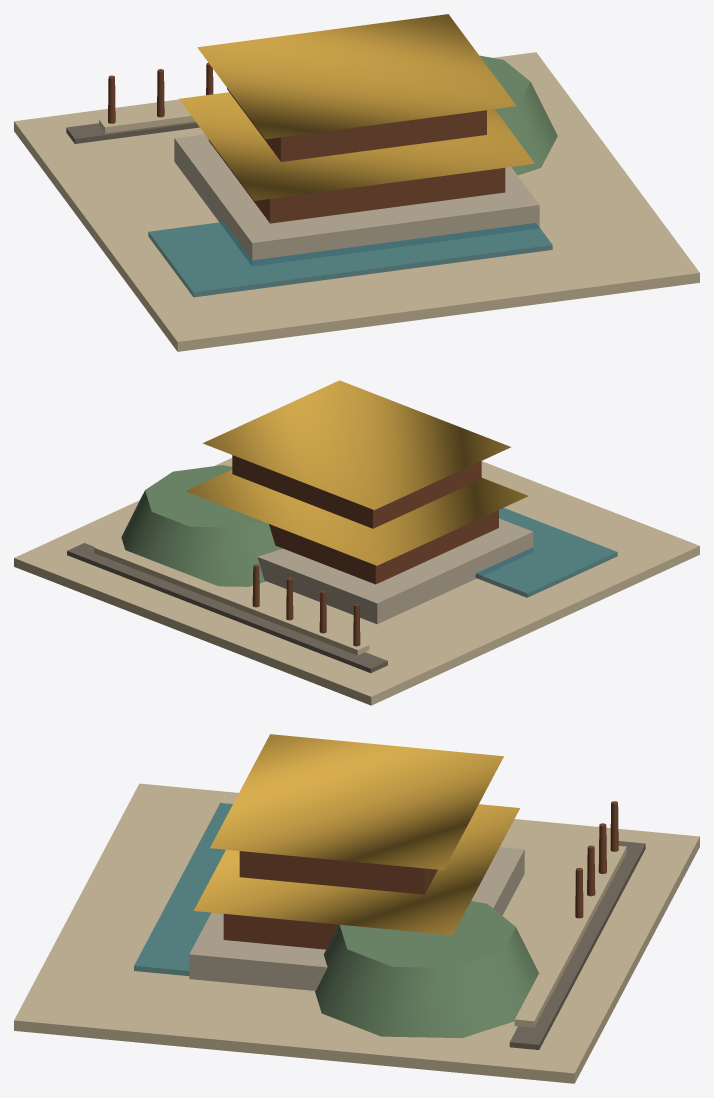
Rendered from model-medium.glb.
3 views of the same model, one above another, from view 1: azimuth 30°, elevation 25°; view 2: azimuth 150°, elevation 25°; view 3: azimuth 270°, elevation 25° (orthographic). The views are drawn at different scales.
Visible parts, largest first — view 1: context_site_plinth, pavilion_roof_2, pavilion_terrace, pavilion_roof_1, garden_pond, pavilion_floor_1, pavilion_floor_2, garden_rockery_hill, garden_gallery_path, front_scale_strip; view 2: context_site_plinth, pavilion_roof_2, garden_rockery_hill, pavilion_roof_1, pavilion_terrace, garden_pond, pavilion_floor_2, pavilion_floor_1, front_scale_strip, garden_gallery_path; view 3: context_site_plinth, pavilion_roof_2, garden_rockery_hill, pavilion_roof_1, pavilion_terrace, garden_pond, pavilion_floor_2, front_scale_strip, garden_gallery_path, pavilion_floor_1.
Part boxes in pixels (x1,y1,x2,y2): context_site_plinth: [14, 52, 699, 351]; pavilion_roof_2: [197, 14, 516, 139]; pavilion_terrace: [174, 134, 539, 266]; pavilion_roof_1: [179, 92, 534, 200]; garden_pond: [148, 222, 552, 297]; pavilion_floor_1: [208, 139, 505, 223]; pavilion_floor_2: [227, 88, 486, 161]; garden_rockery_hill: [480, 55, 557, 175]; garden_gallery_path: [99, 108, 195, 133]; front_scale_strip: [66, 121, 199, 143]; context_site_plinth: [14, 458, 699, 705]; pavilion_roof_2: [202, 380, 511, 509]; garden_rockery_hill: [121, 465, 282, 586]; pavilion_roof_1: [185, 470, 528, 565]; pavilion_terrace: [257, 518, 533, 624]; garden_pond: [475, 507, 617, 597]; pavilion_floor_2: [232, 455, 481, 528]; pavilion_floor_1: [269, 510, 498, 584]; front_scale_strip: [67, 543, 387, 673]; garden_gallery_path: [94, 542, 369, 655]; context_site_plinth: [14, 783, 699, 1083]; pavilion_roof_2: [210, 734, 503, 870]; garden_rockery_hill: [315, 901, 538, 1038]; pavilion_roof_1: [194, 804, 519, 935]; pavilion_terrace: [189, 847, 524, 990]; garden_pond: [134, 803, 232, 975]; pavilion_floor_2: [239, 851, 437, 894]; front_scale_strip: [509, 841, 645, 1049]; garden_gallery_path: [514, 844, 626, 1027]; pavilion_floor_1: [223, 913, 338, 949].
Bounding box in the file's own units: 9.55 × 2.62 × 9.55.
